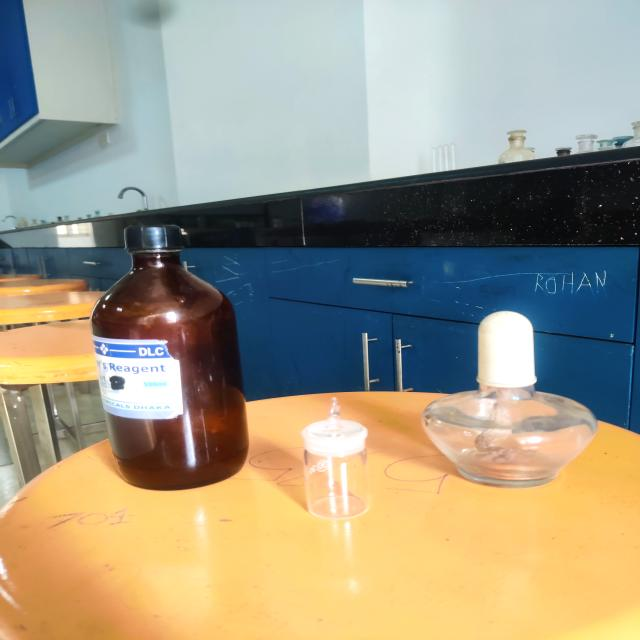Nessler_Reagent_Bottle: (66, 214, 269, 501)
Spirit_Lamp: (410, 299, 614, 504)
Weighing_Bottle: (290, 380, 388, 538)
